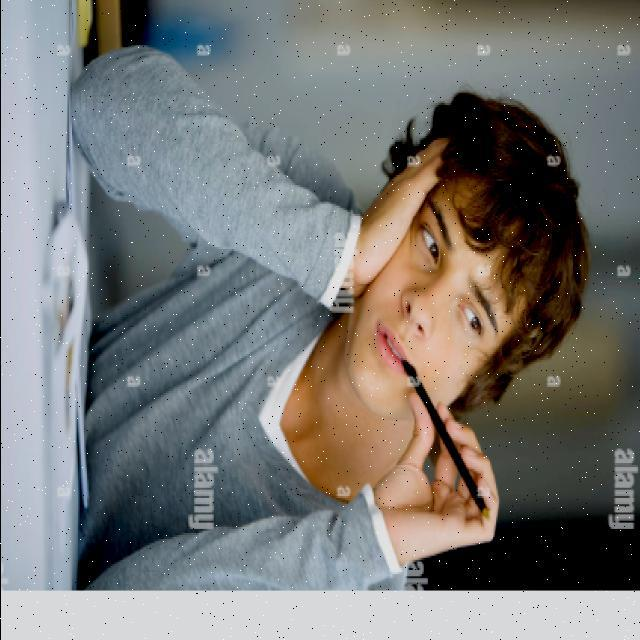face_no_mask: (345, 180, 503, 423)
